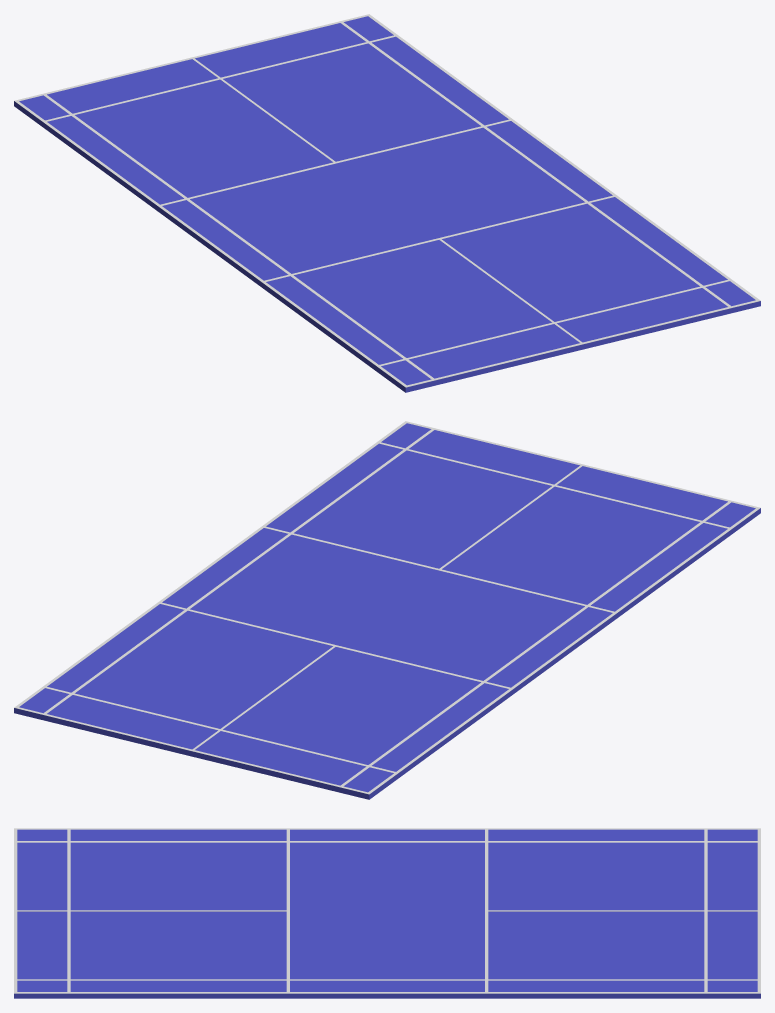
File: Badminton Court.fbx
The picture shows the model from 3 angles, top to bottom: view 1: azimuth 30°, elevation 25°; view 2: azimuth 150°, elevation 25°; view 3: azimuth 270°, elevation 25°; orthographic projection. The views are drawn at different scales.
Parts seen in each view (by area): view 1: Badminton Court; view 2: Badminton Court; view 3: Badminton Court.
Boxes of the visible parts, x1,y1,x2,y2 form: Badminton Court: (14, 14, 760, 392); Badminton Court: (14, 421, 760, 799); Badminton Court: (14, 828, 760, 998).
Bounding box in the file's own units: 2772 × 40.42 × 5292.
